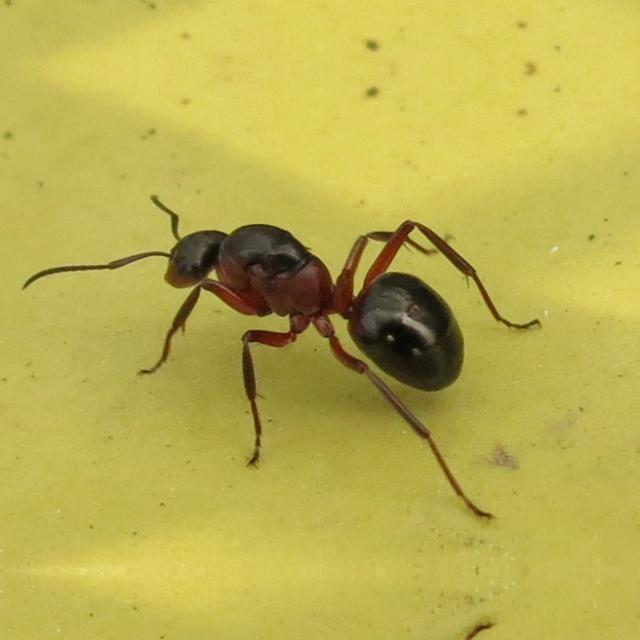Formica: (97, 154, 519, 416)
